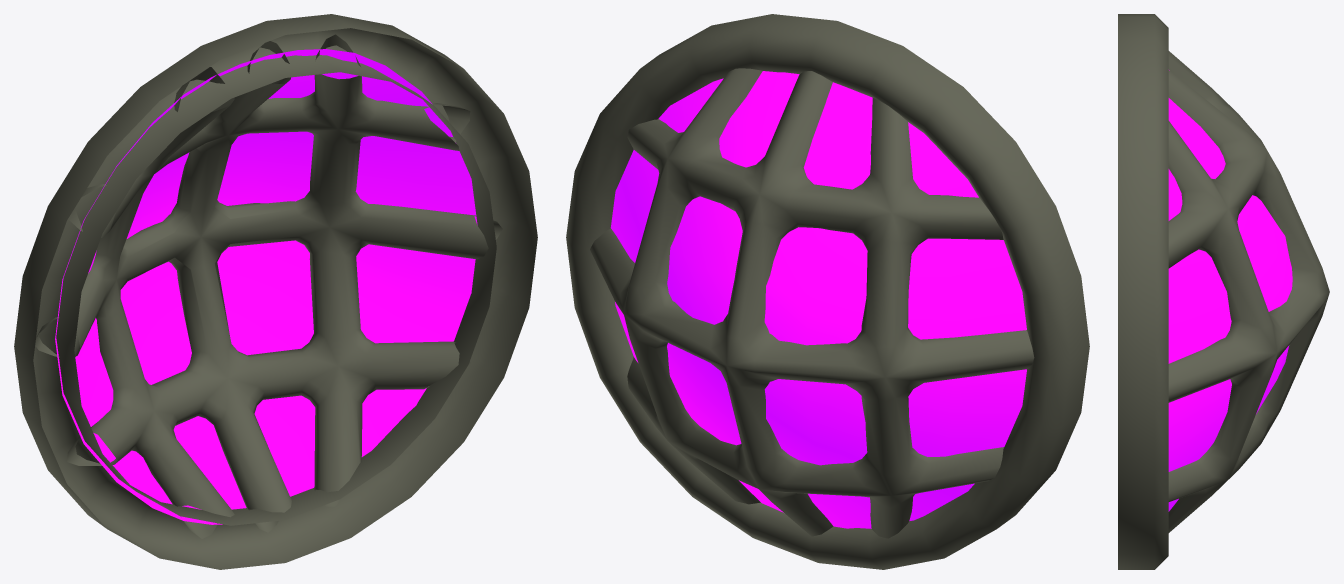
File: Bipper.fbx
The picture shows the model from 3 angles, left to right: view 1: azimuth 30°, elevation 25°; view 2: azimuth 150°, elevation 25°; view 3: azimuth 270°, elevation 25°; orthographic projection. The views are drawn at different scales.
Parts seen in each view (by area): view 1: Grid, Round, Light; view 2: Grid, Round, Light; view 3: Grid, Round, Light.
Boxes of the visible parts, x1=… form: Grid: x1=35, y1=34, x2=502, y2=538; Round: x1=14, y1=14, x2=537, y2=569; Light: x1=55, y1=49, x2=477, y2=524; Grid: x1=590, y1=68, x2=1034, y2=538; Round: x1=566, y1=14, x2=1089, y2=569; Light: x1=610, y1=71, x2=1026, y2=528; Grid: x1=1168, y1=51, x2=1329, y2=532; Round: x1=1118, y1=14, x2=1168, y2=569; Light: x1=1168, y1=70, x2=1292, y2=511.
Size of the model in its own units: 48.29 by 48.29 by 18.33.
